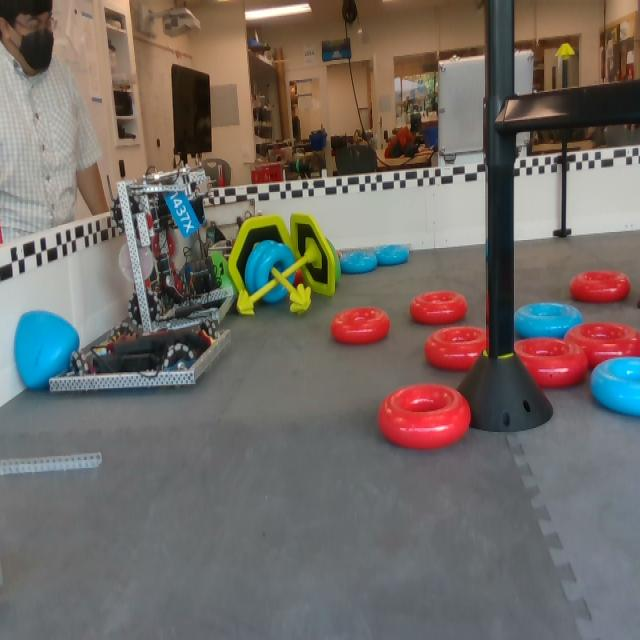Blue-Ring: (590, 358, 639, 417), (513, 300, 585, 336), (257, 247, 299, 304), (244, 241, 270, 296), (341, 253, 378, 274), (375, 245, 411, 266)
Mobile-Goal: (237, 214, 336, 317), (225, 215, 312, 315)
Red-Ring: (376, 385, 472, 453), (515, 337, 588, 389), (564, 322, 639, 369), (425, 326, 487, 371), (330, 309, 390, 347), (568, 270, 631, 303), (408, 291, 468, 325)
Yellow-Stake-Head: (290, 284, 312, 314), (237, 290, 256, 316), (555, 43, 575, 56)
